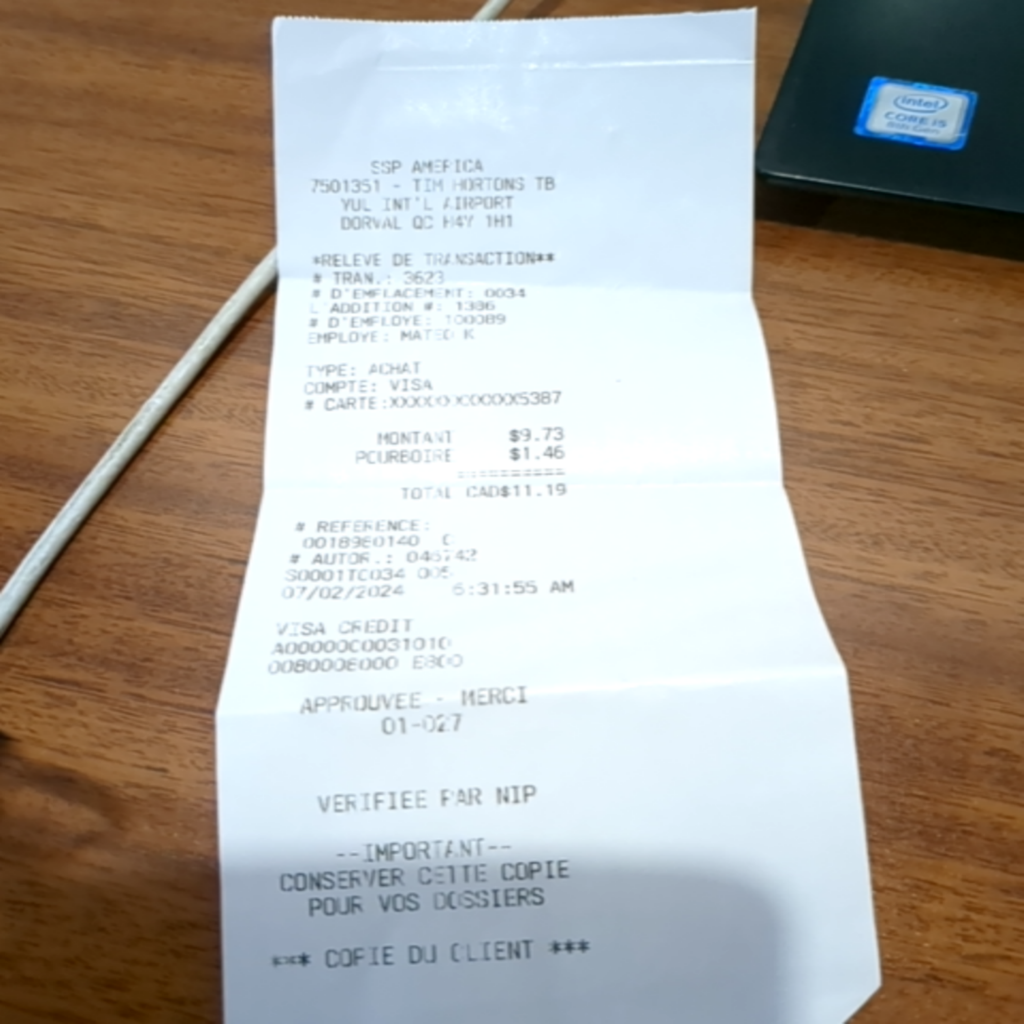recipt: (210, 8, 883, 1022)
